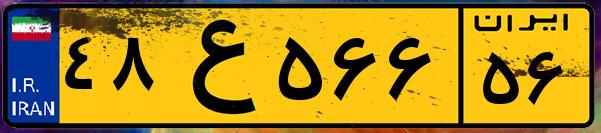4: (57, 26, 110, 100)
5: (270, 28, 330, 110), (475, 38, 525, 113)
6: (385, 28, 445, 110), (330, 28, 385, 110), (525, 38, 570, 115)
8: (110, 28, 158, 98)
ع: (158, 12, 270, 120)
